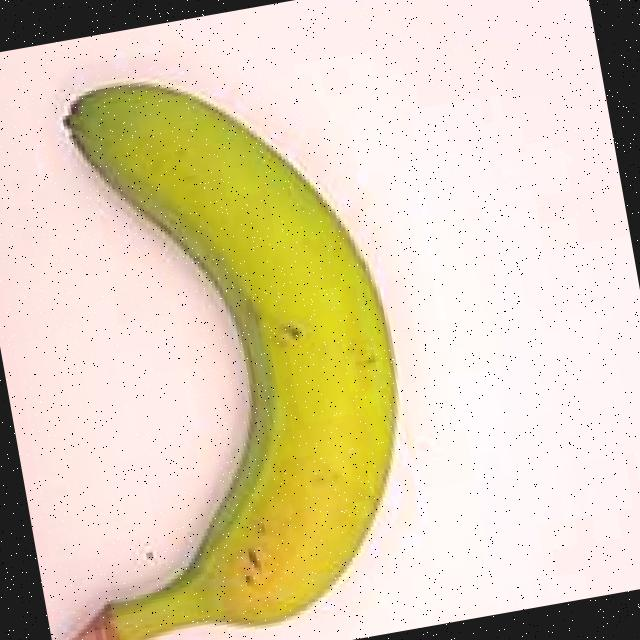Unripe: (0, 3, 478, 640)
